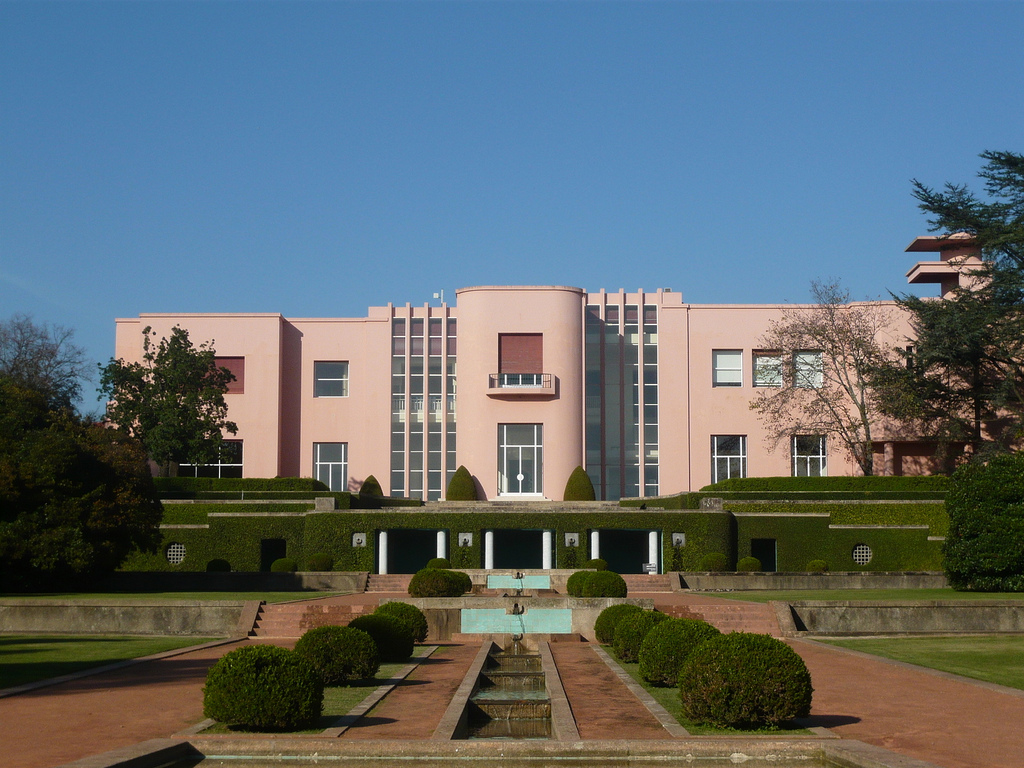serralves: (113, 218, 1023, 501)
